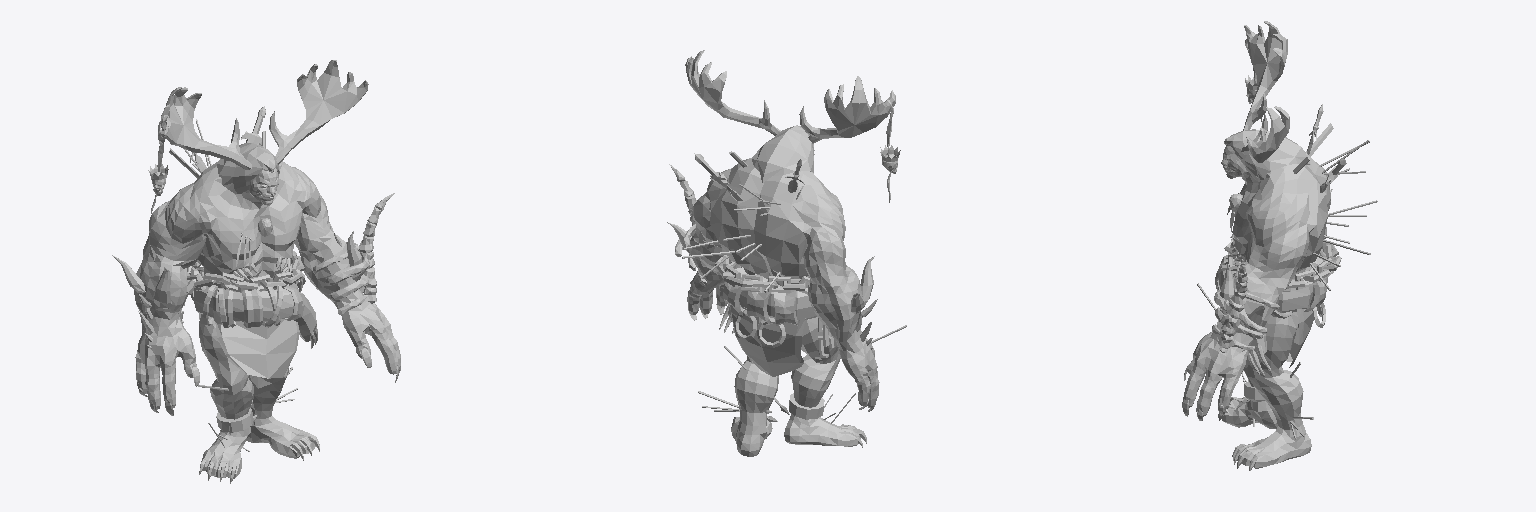
The model's file is walking_000019.obj.
The picture shows the model from 3 angles: view 1: azimuth 30°, elevation 25°; view 2: azimuth 150°, elevation 25°; view 3: azimuth 270°, elevation 25°; orthographic projection.
Parts seen in each view (by area): view 1: MAW; view 2: MAW; view 3: MAW.
Boxes of the visible parts, x1=… form: MAW: x1=112, y1=60, x2=400, y2=483; MAW: x1=667, y1=50, x2=906, y2=456; MAW: x1=1182, y1=21, x2=1377, y2=470.
Size of the model in its own units: 15.01 by 23.32 by 10.64.